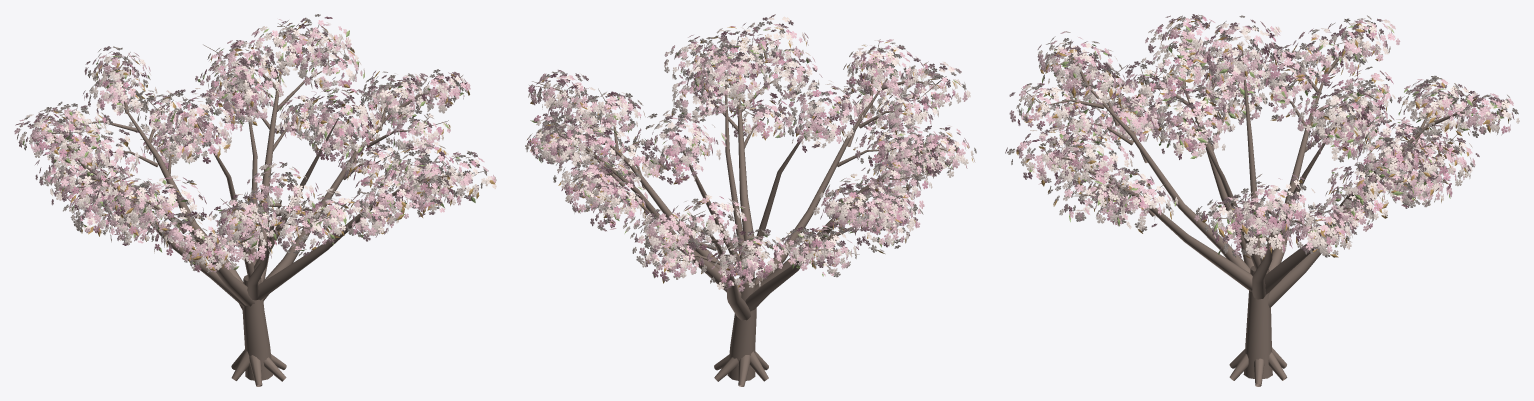
Rendered from sakura_tree_2.glb.
3 renders of one model, left to right at view 1: azimuth 30°, elevation 25°; view 2: azimuth 150°, elevation 25°; view 3: azimuth 270°, elevation 25°, orthographic. The views are drawn at different scales.
Parts seen in each view (by area): view 1: sakura_tree_2_SakuraBloomIvory, sakura_tree_2_SakuraBloomBlush, sakura_tree_2_SakuraBark, sakura_tree_2_SakuraBloomRose, sakura_tree_2_SakuraLeafCopper, sakura_tree_2_SakuraLeafSage; view 2: sakura_tree_2_SakuraBloomIvory, sakura_tree_2_SakuraBloomBlush, sakura_tree_2_SakuraBark, sakura_tree_2_SakuraBloomRose, sakura_tree_2_SakuraLeafCopper, sakura_tree_2_SakuraLeafSage; view 3: sakura_tree_2_SakuraBloomIvory, sakura_tree_2_SakuraBloomBlush, sakura_tree_2_SakuraBark, sakura_tree_2_SakuraBloomRose, sakura_tree_2_SakuraLeafCopper, sakura_tree_2_SakuraLeafSage.
Boxes of the visible parts, box(x1,y1,x2,y2) form: sakura_tree_2_SakuraBloomIvory: box(17, 14, 496, 272); sakura_tree_2_SakuraBloomBlush: box(14, 19, 495, 272); sakura_tree_2_SakuraBark: box(32, 23, 488, 386); sakura_tree_2_SakuraBloomRose: box(32, 16, 476, 272); sakura_tree_2_SakuraLeafCopper: box(42, 21, 495, 270); sakura_tree_2_SakuraLeafSage: box(19, 25, 478, 269); sakura_tree_2_SakuraBloomIvory: box(525, 16, 976, 289); sakura_tree_2_SakuraBloomBlush: box(527, 14, 969, 291); sakura_tree_2_SakuraBark: box(529, 39, 953, 386); sakura_tree_2_SakuraBloomRose: box(528, 26, 961, 286); sakura_tree_2_SakuraLeafCopper: box(527, 26, 973, 287); sakura_tree_2_SakuraLeafSage: box(530, 29, 957, 278); sakura_tree_2_SakuraBloomIvory: box(1007, 14, 1519, 259); sakura_tree_2_SakuraBloomBlush: box(1005, 14, 1514, 257); sakura_tree_2_SakuraBark: box(1021, 19, 1499, 386); sakura_tree_2_SakuraBloomRose: box(1017, 16, 1507, 252); sakura_tree_2_SakuraLeafCopper: box(1016, 18, 1509, 260); sakura_tree_2_SakuraLeafSage: box(1021, 25, 1505, 254).
Size of the model in its own units: 10.64 by 7.57 by 11.14.
